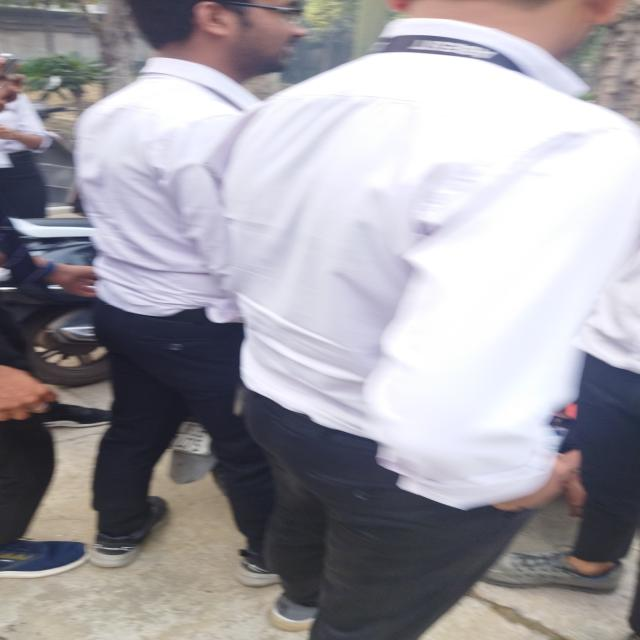unsafe: (277, 0, 640, 620), (55, 0, 297, 586)
